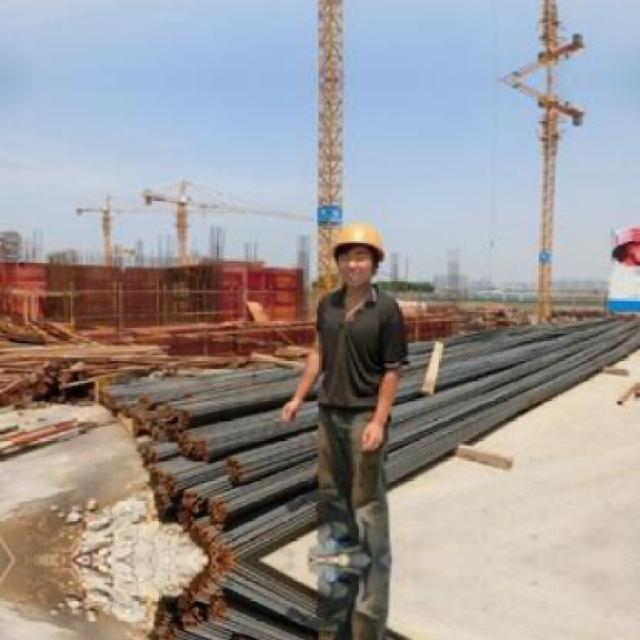helmet: (320, 210, 395, 296)
